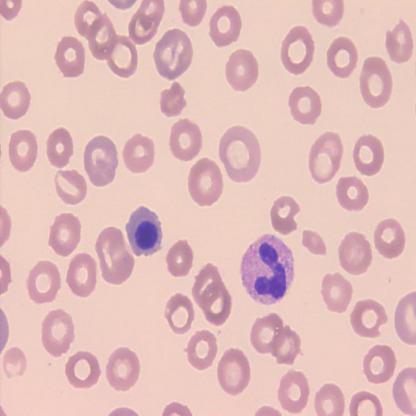NRC: (124, 204, 164, 258)
